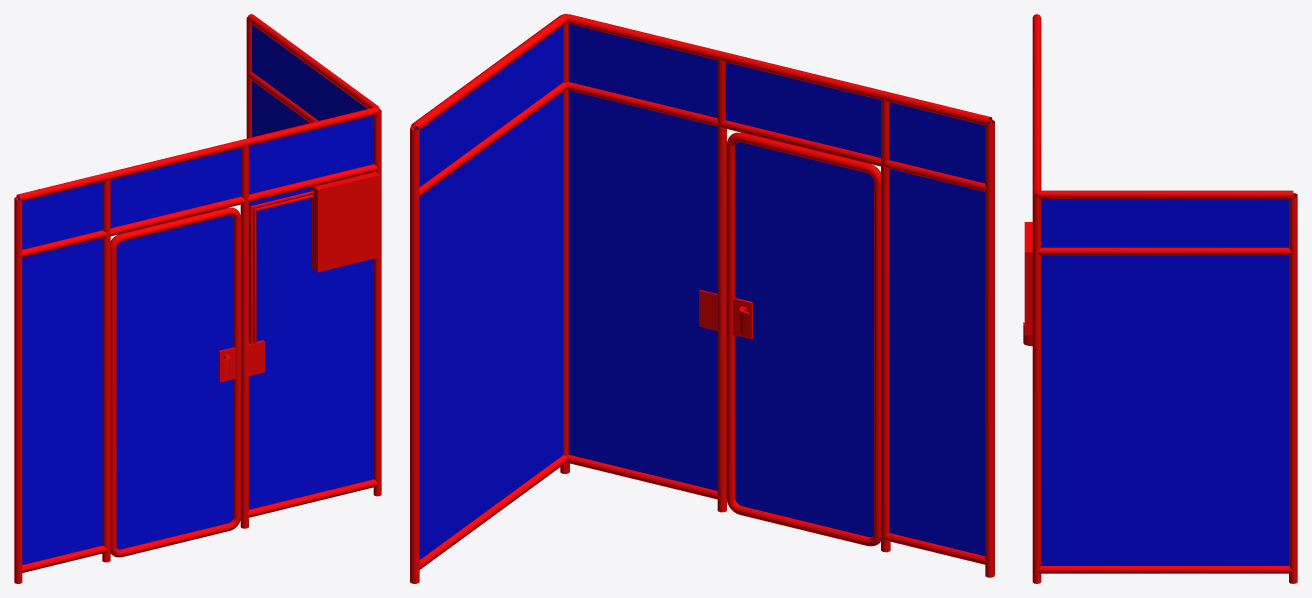
File: GrillagePorte.FBX
3 renders of one model, left to right at view 1: azimuth 30°, elevation 25°; view 2: azimuth 150°, elevation 25°; view 3: azimuth 270°, elevation 25°, orthographic. The views are drawn at different scales.
Parts seen in each view (by area): view 1: Grillage, Grillage_porte; view 2: Grillage, Grillage_porte; view 3: Grillage.
Part boxes in pixels (x1,y1,x2,y2): Grillage: (14, 14, 381, 583); Grillage_porte: (110, 207, 241, 557); Grillage: (410, 14, 994, 583); Grillage_porte: (726, 132, 880, 546); Grillage: (1024, 14, 1297, 583).
Size of the model in its own units: 250 by 253 by 160.
